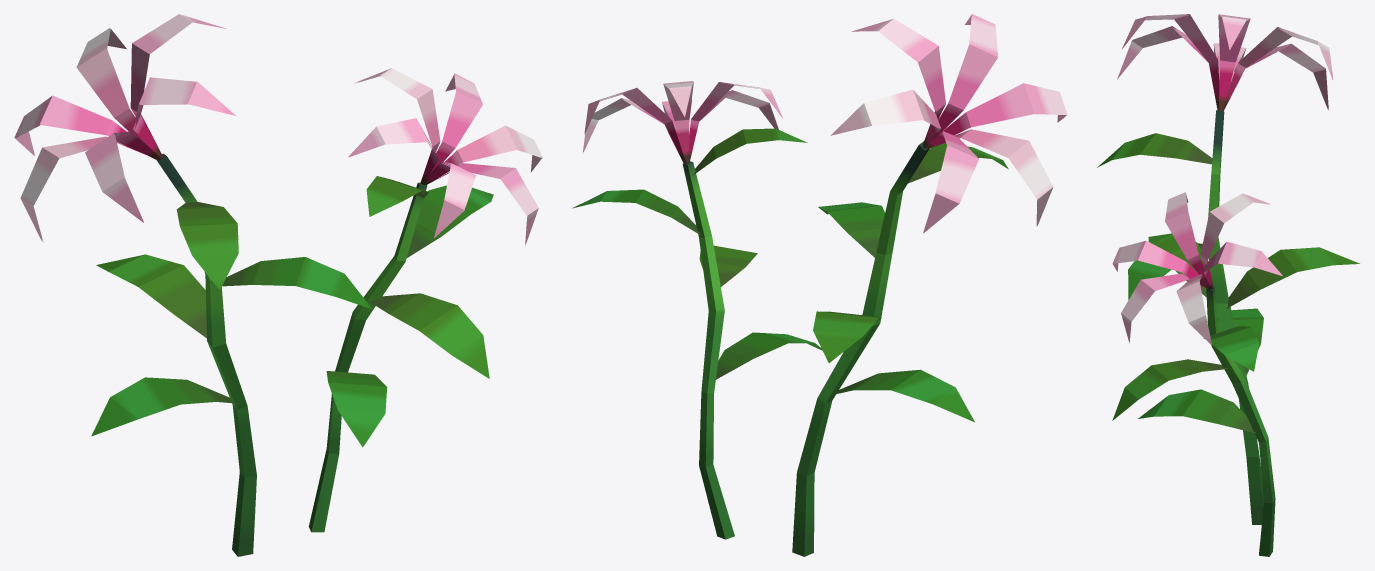
Rendered from um_flower002.FBX.
3 views of the same model, side by side, from view 1: azimuth 30°, elevation 25°; view 2: azimuth 150°, elevation 25°; view 3: azimuth 270°, elevation 25° (orthographic). The views are drawn at different scales.
Parts seen in each view (by area): view 1: um_flower002; view 2: um_flower002; view 3: um_flower002.
Part boxes in pixels (<box>): um_flower002: <box>14,14,542,556</box>; um_flower002: <box>572,14,1067,556</box>; um_flower002: <box>1097,14,1359,556</box>.
Size of the model in its own units: 1.6 by 1.73 by 0.8726.
